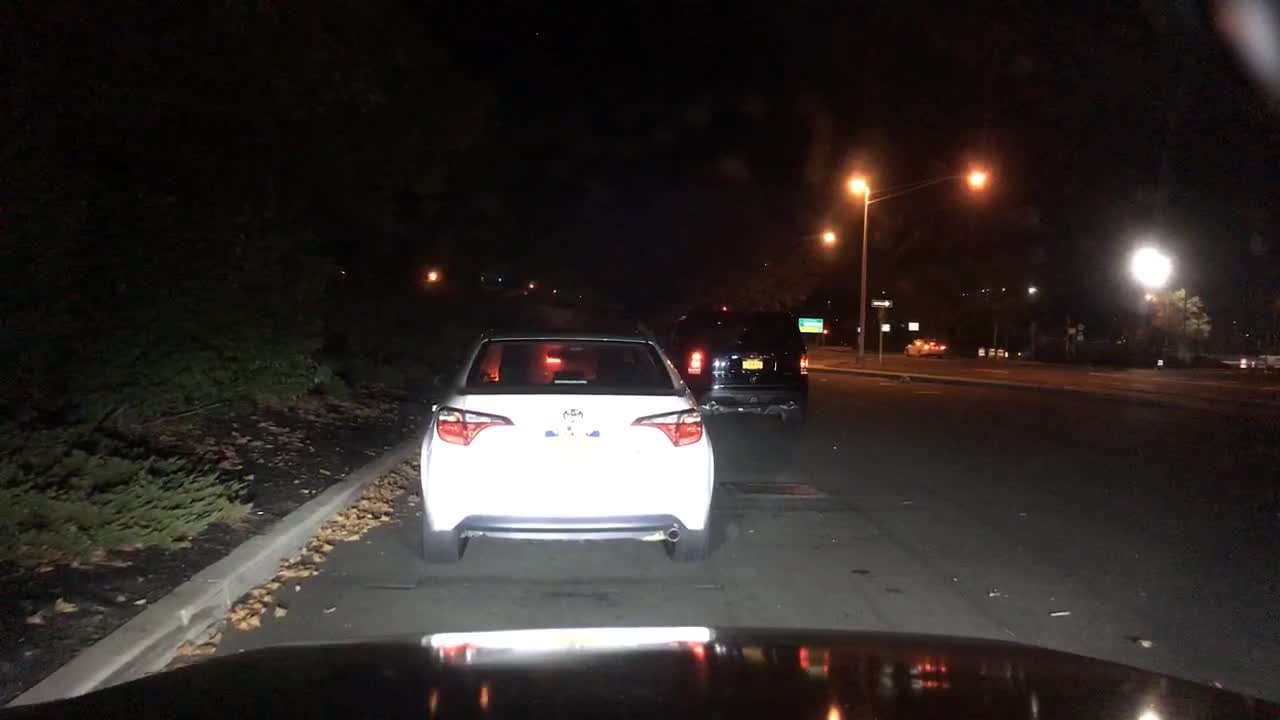car: (417, 330, 716, 563), (675, 308, 807, 429), (905, 336, 948, 356)
traffic sign: (801, 318, 823, 333), (867, 296, 890, 308)
